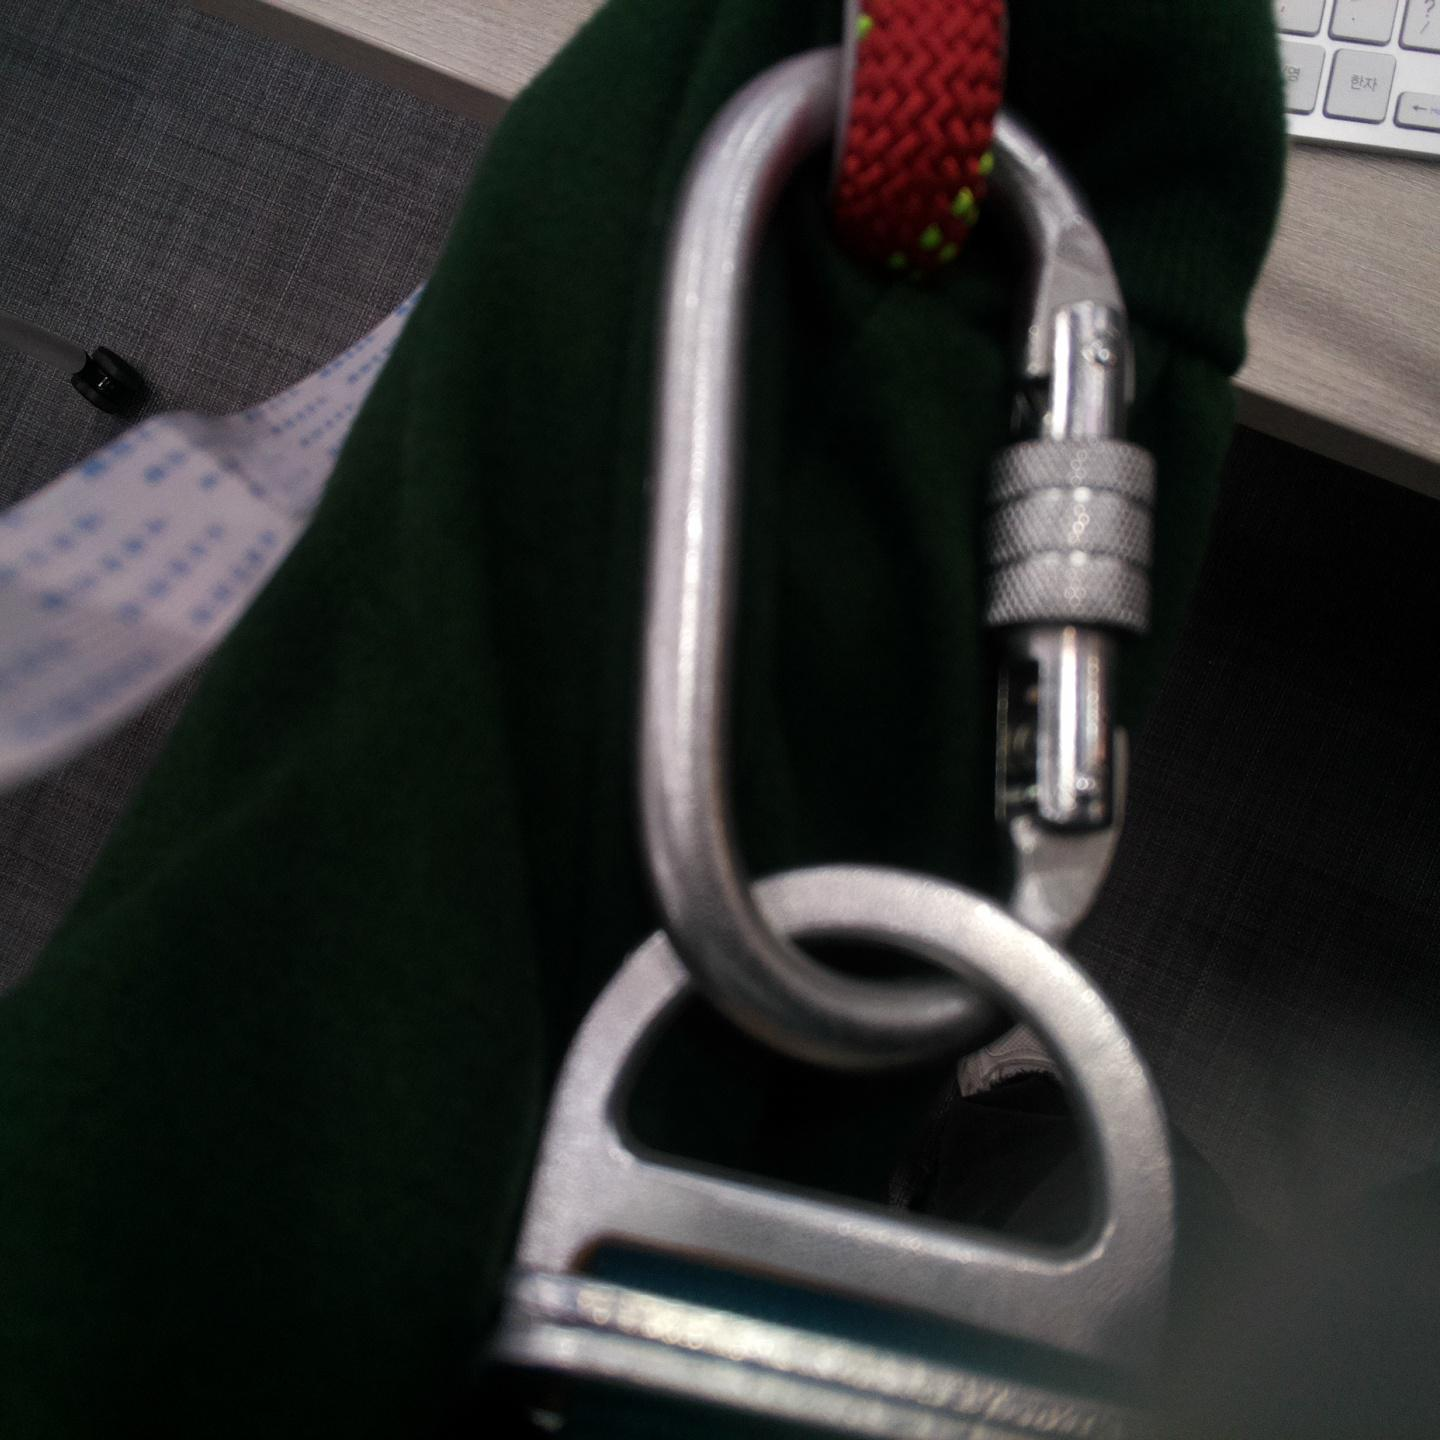SUCCESS: (620, 344, 1156, 901)
